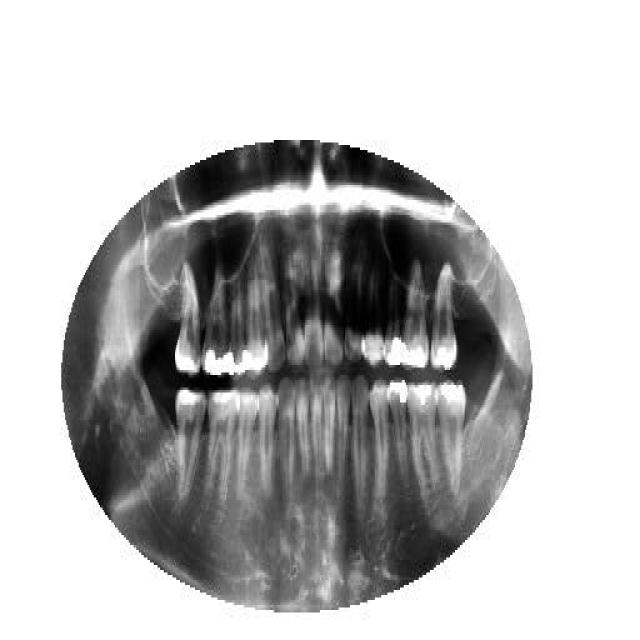Fillings: (435, 380, 466, 495), (174, 265, 204, 377), (401, 262, 430, 368), (202, 267, 230, 375), (430, 260, 458, 368), (242, 262, 268, 378), (410, 382, 435, 492), (386, 380, 409, 485), (384, 268, 404, 368), (228, 278, 246, 378)
